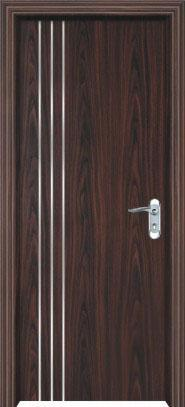door: (13, 19, 167, 396)
